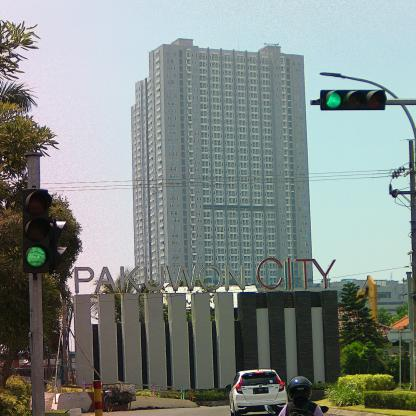green: (23, 188, 51, 272), (320, 89, 388, 112)
